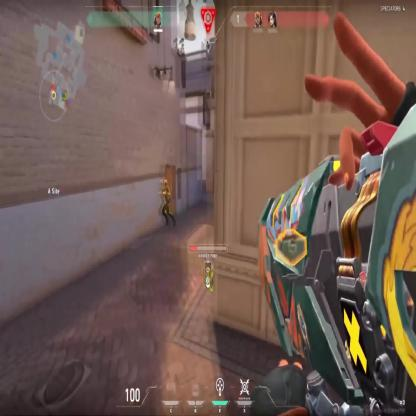enemy: (160, 178, 174, 228)
enemy_head: (163, 179, 168, 187)
